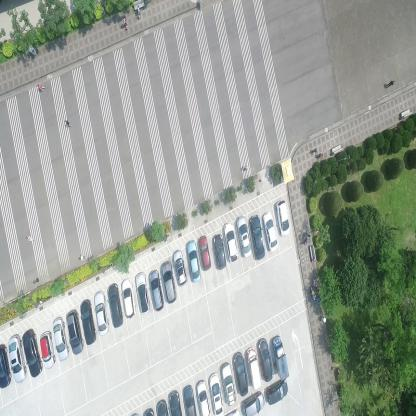car: (21, 328, 43, 378), (7, 335, 27, 384), (64, 308, 84, 354), (272, 334, 290, 381), (52, 316, 70, 362), (80, 298, 97, 346), (93, 289, 110, 336), (257, 336, 274, 382), (184, 236, 200, 284), (250, 212, 265, 262), (236, 214, 252, 260), (223, 218, 239, 264), (233, 350, 249, 396), (107, 283, 123, 328), (160, 260, 176, 304), (148, 268, 164, 312), (246, 345, 262, 389), (135, 269, 150, 315), (221, 360, 236, 406), (262, 210, 278, 252), (209, 371, 224, 415), (121, 276, 136, 319), (39, 331, 55, 370), (266, 378, 288, 405), (0, 343, 12, 390), (173, 249, 188, 286), (242, 390, 264, 415), (276, 199, 290, 237), (197, 233, 211, 271), (213, 231, 226, 271), (196, 378, 210, 415), (183, 384, 197, 416), (168, 390, 182, 415)
